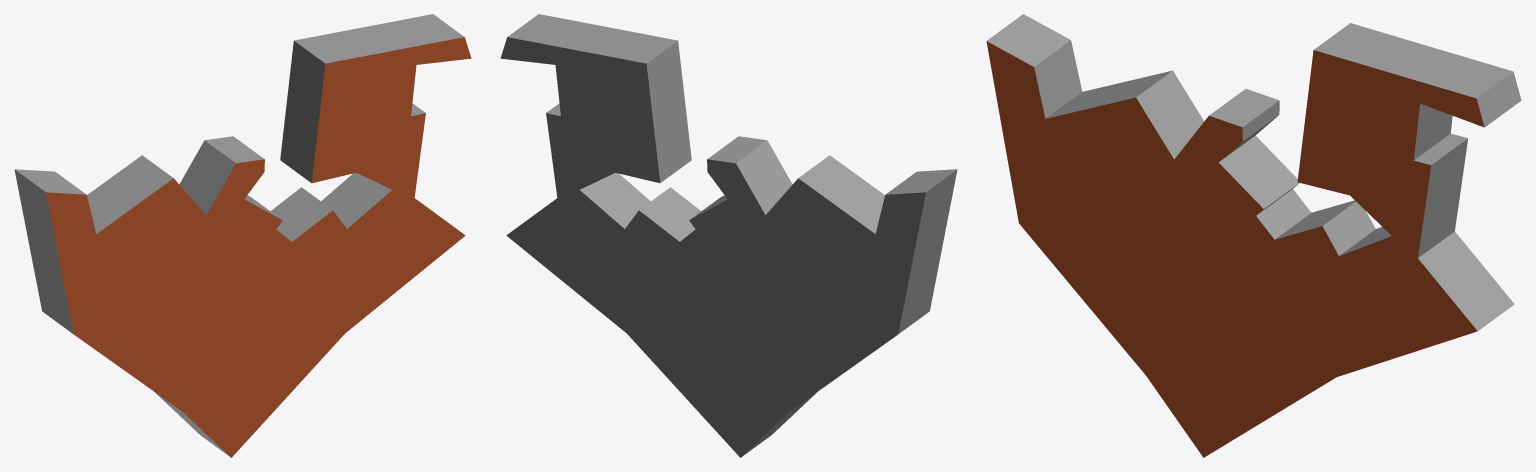
File: construction_4061_assumed_A_Casa_h6m.obj
3 views of the same model, side by side, from view 1: azimuth 30°, elevation 25°; view 2: azimuth 150°, elevation 25°; view 3: azimuth 330°, elevation 25° (orthographic). The views are drawn at different scales.
Parts seen in each view (by area): view 1: construction_4061_assumed_A_Casa; view 2: construction_4061_assumed_A_Casa; view 3: construction_4061_assumed_A_Casa.
Part boxes in pixels (bbox=[...]): construction_4061_assumed_A_Casa: bbox=[14, 14, 471, 457]; construction_4061_assumed_A_Casa: bbox=[500, 14, 957, 457]; construction_4061_assumed_A_Casa: bbox=[986, 14, 1521, 457].
Bounding box in the file's own units: 46.74 × 38.98 × 6.
